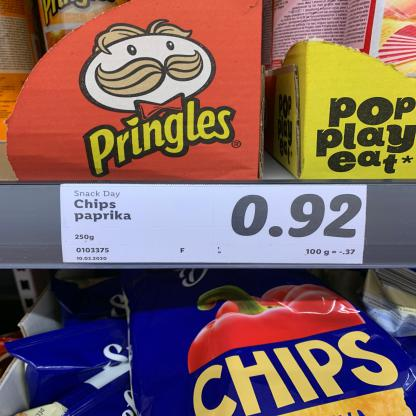prtg: (61, 185, 367, 265)
